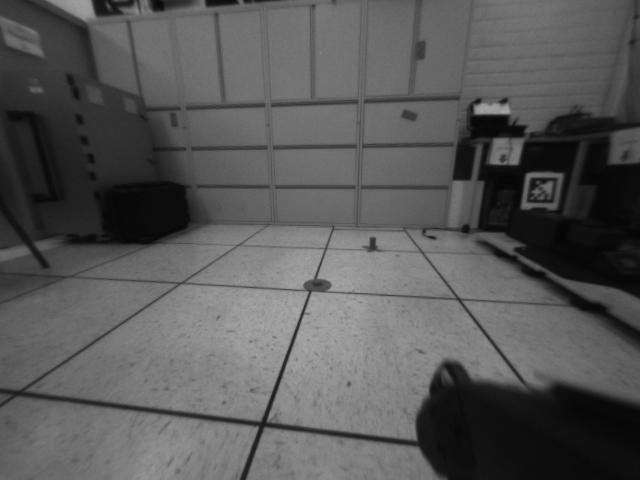X: (362, 235, 384, 252)
